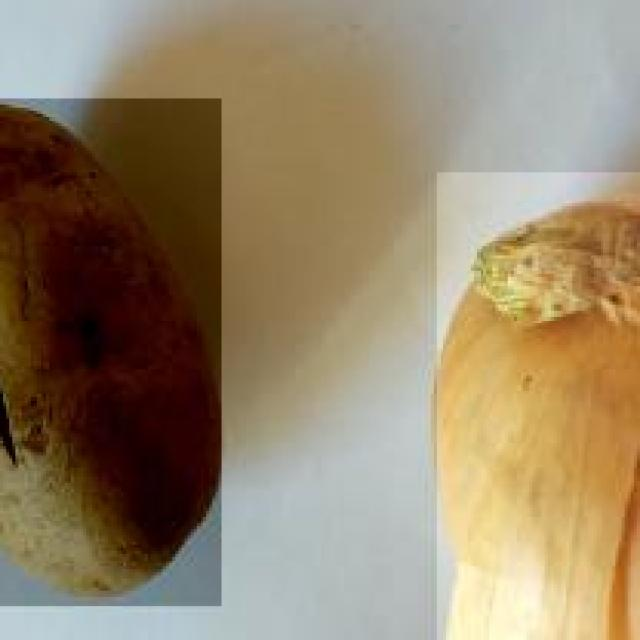onion: (434, 169, 640, 640)
potato: (0, 96, 222, 606)
